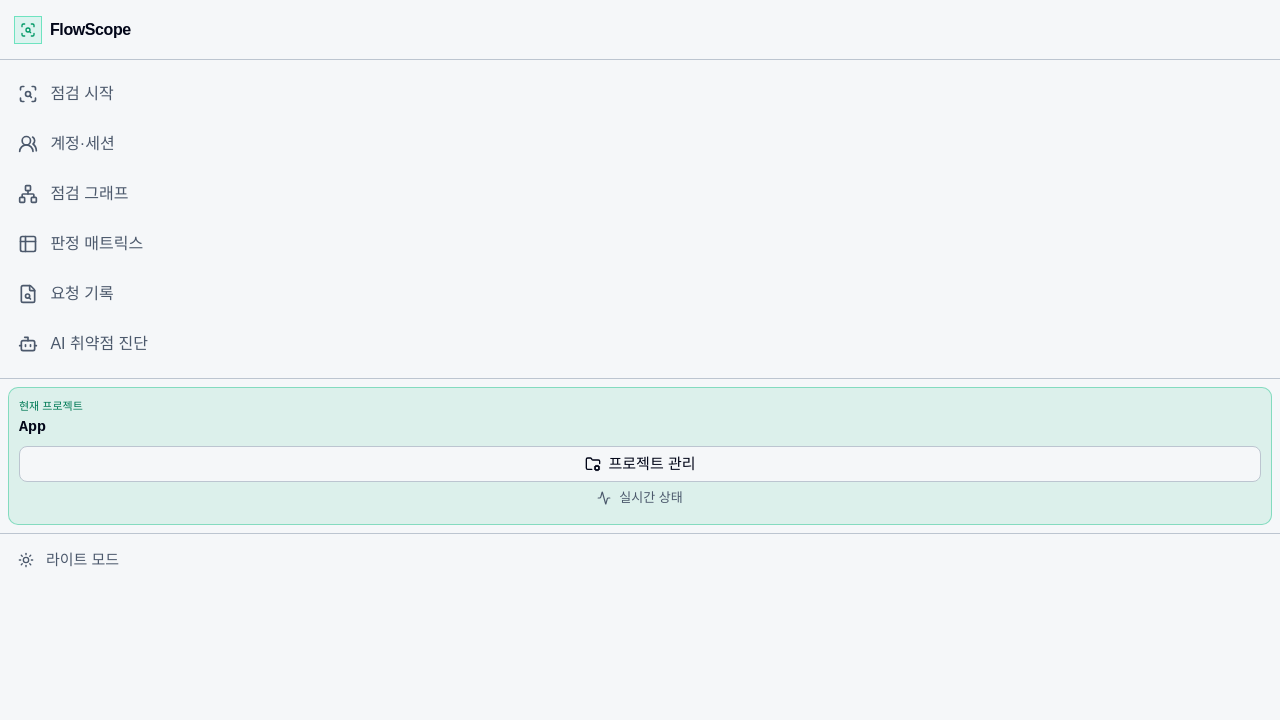
keeps help behind the existing question buttons
Click the button "프로젝트 관리".
click(640, 464)  # box [19,446,1261,482]
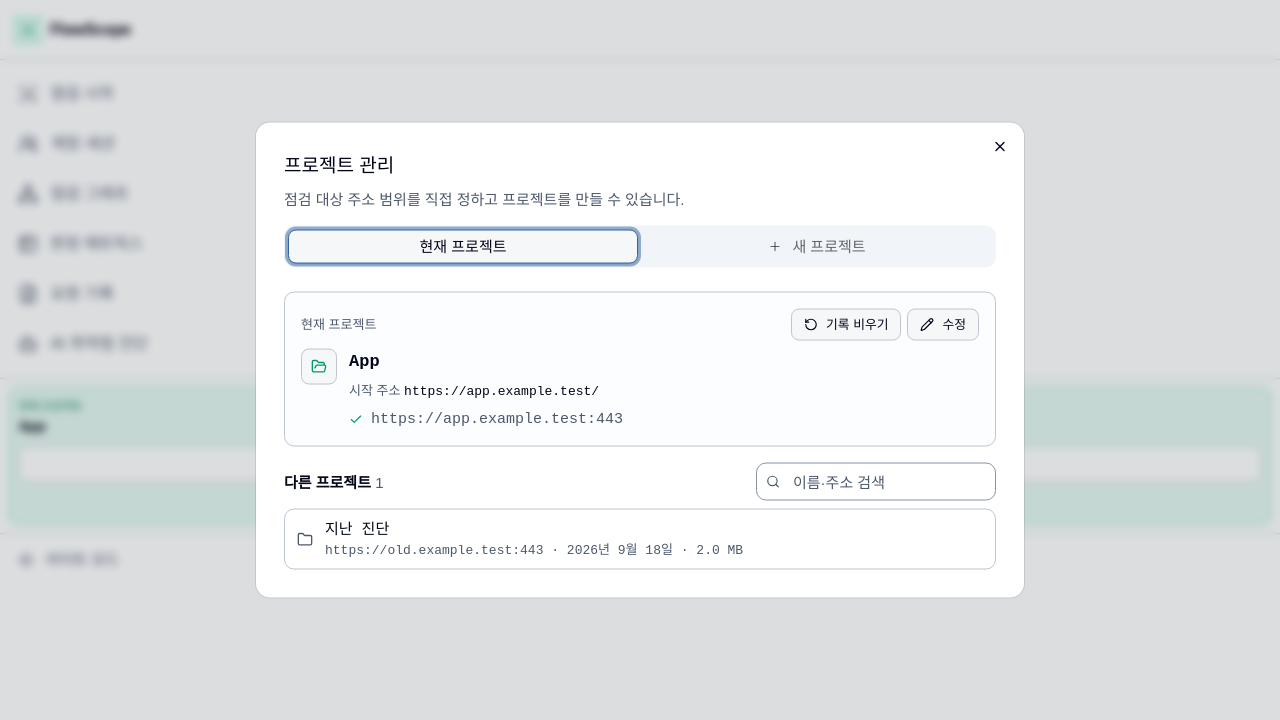
Click the tab "새 프로젝트".
click(817, 246)  # box [642,230,992,264]
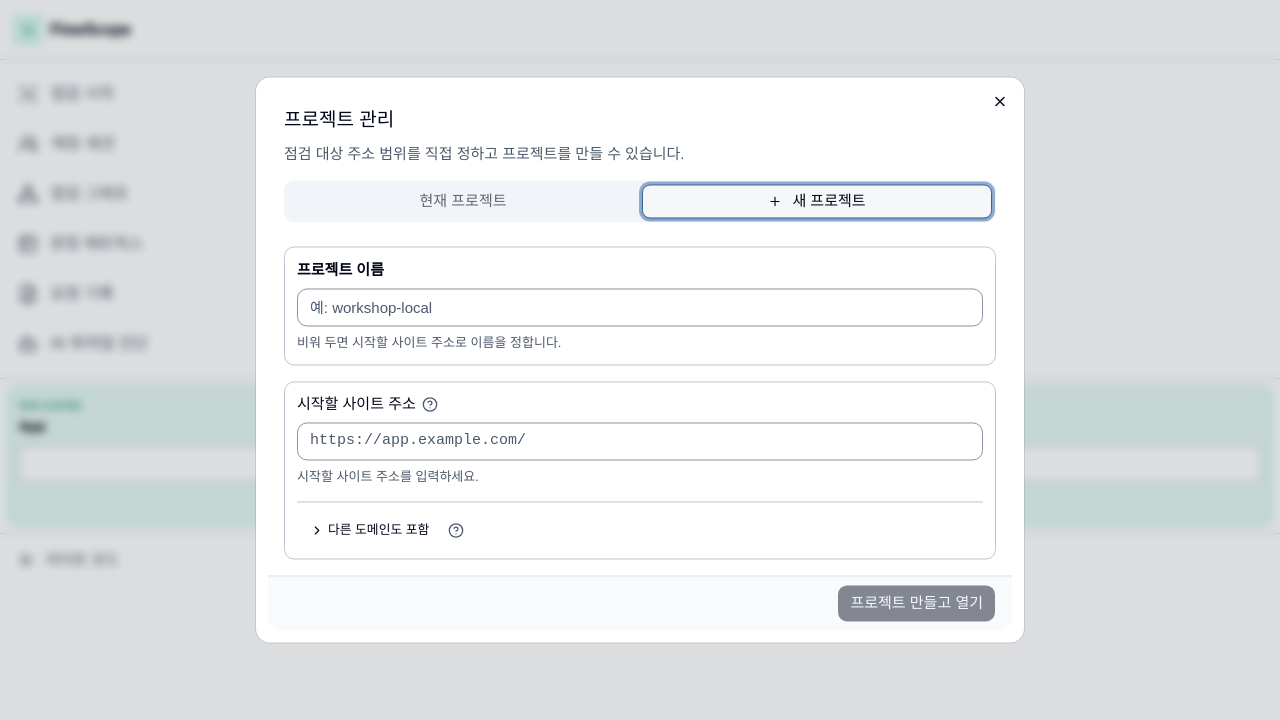
Expected: the text "이 주소로 브라우저를 열어요" is not shown
Click the button named "시작할 사이트 주소 설명".
click(430, 404)  # box [420,394,440,414]
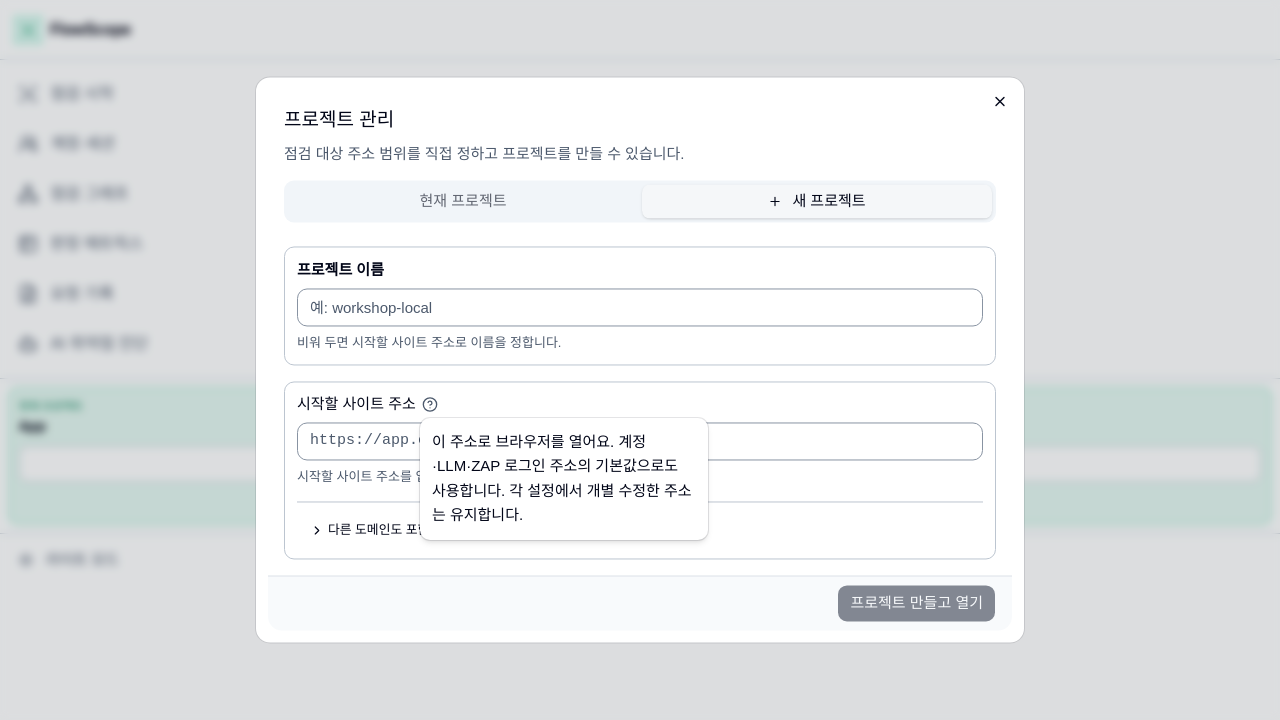
Now the text "계정·LLM·ZAP 로그인 주소의 기본값" is shown, box [432,433,692,523]
